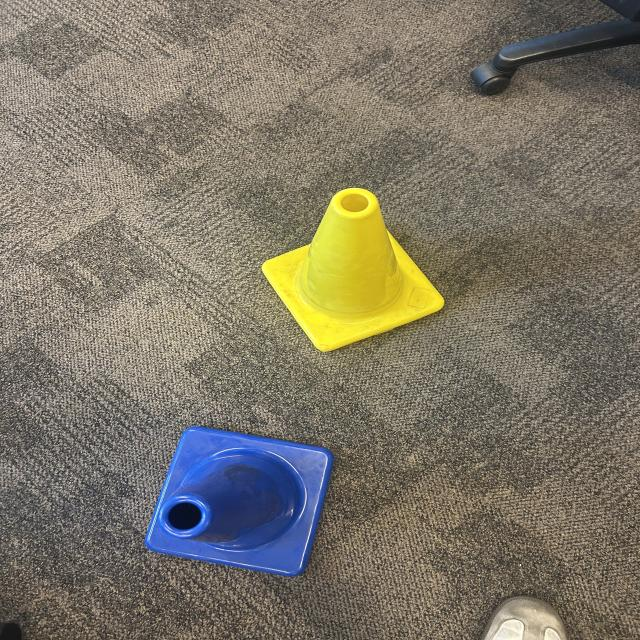blue_cone: (148, 426, 331, 576)
yellow_cone: (263, 188, 445, 350)
